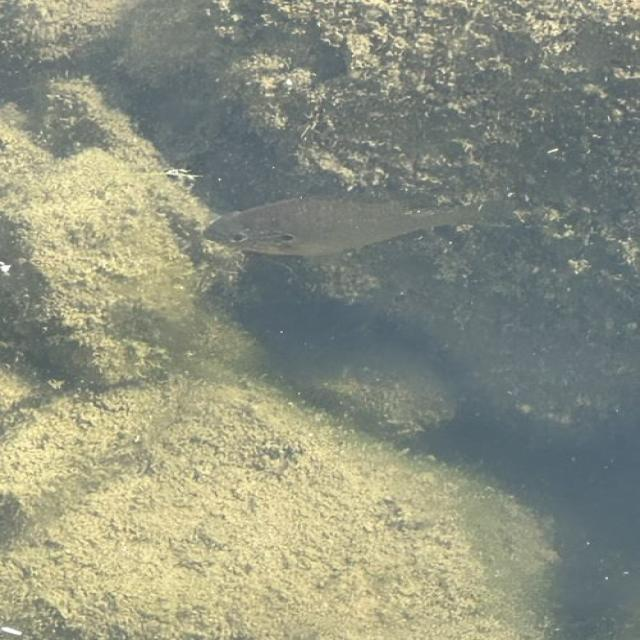Gunes Levregi: (200, 188, 524, 260)
